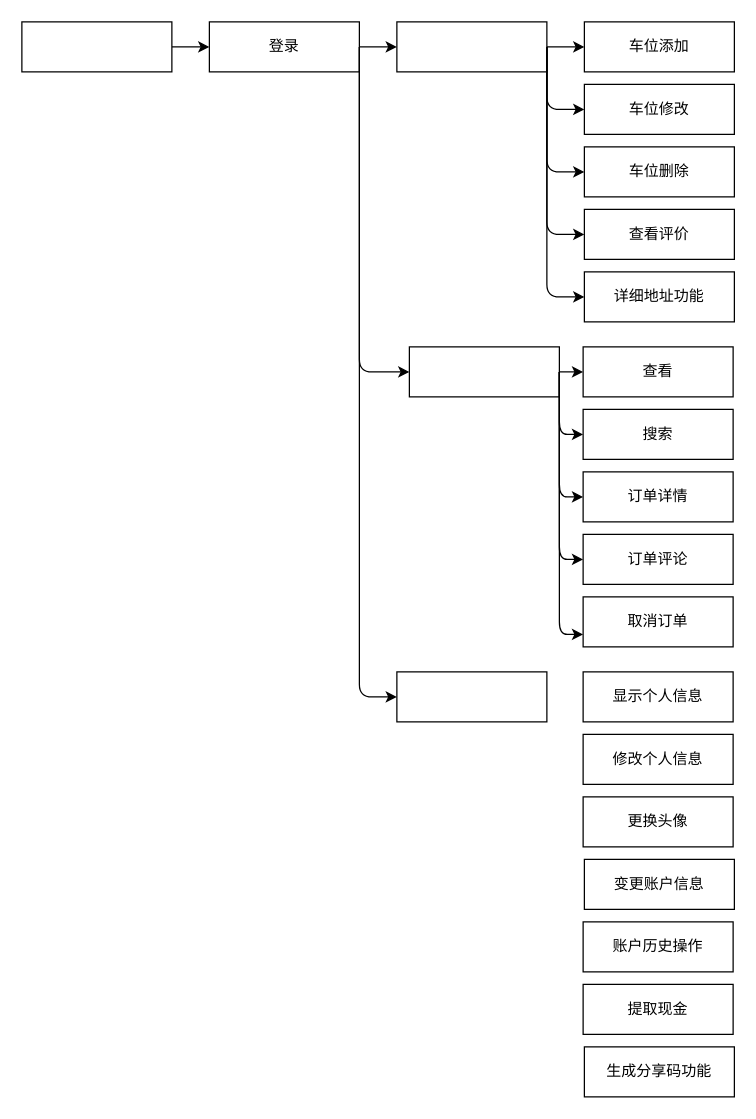
This 756x1119 diagram has some shape labels left out. The centre of each missing label's shape, as x and y in pixels:
"主页" goes at (x=471, y=46).
"历史订单" goes at (x=483, y=371).
"我的" goes at (x=471, y=696).
"注册" goes at (x=96, y=46).
